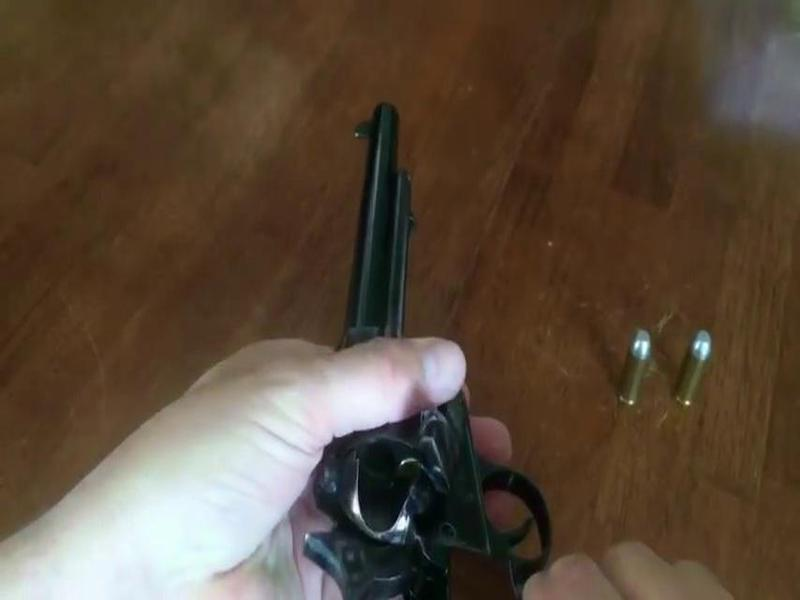Revolver: (272, 78, 540, 600)
